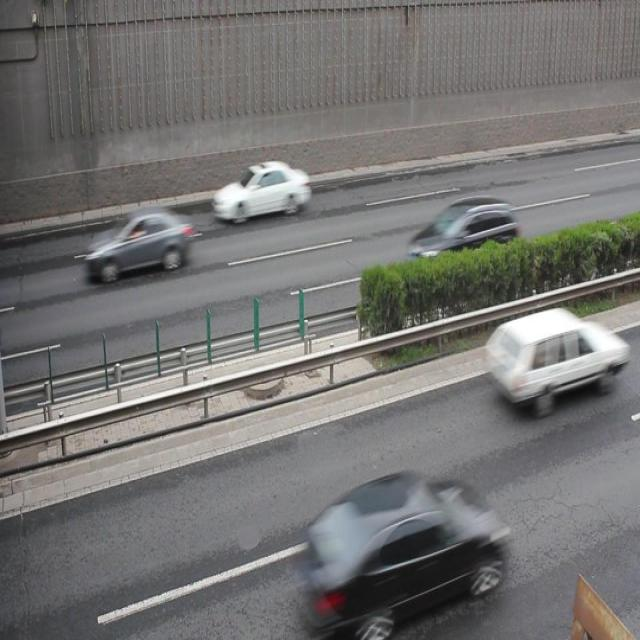car: (298, 468, 504, 640), (481, 307, 615, 411), (403, 194, 517, 270), (85, 209, 191, 282), (212, 162, 308, 222)
